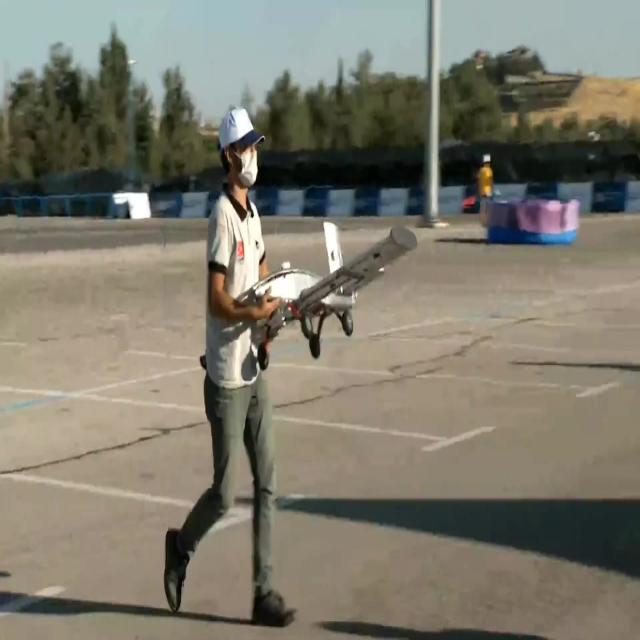iha: (230, 222, 419, 372)
